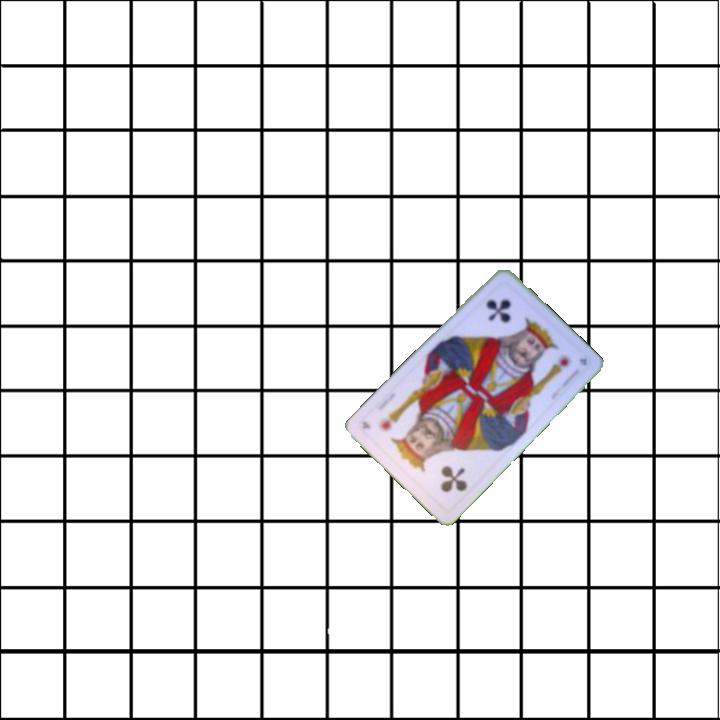c_k.png: (462, 276, 548, 362), (399, 429, 485, 514)
